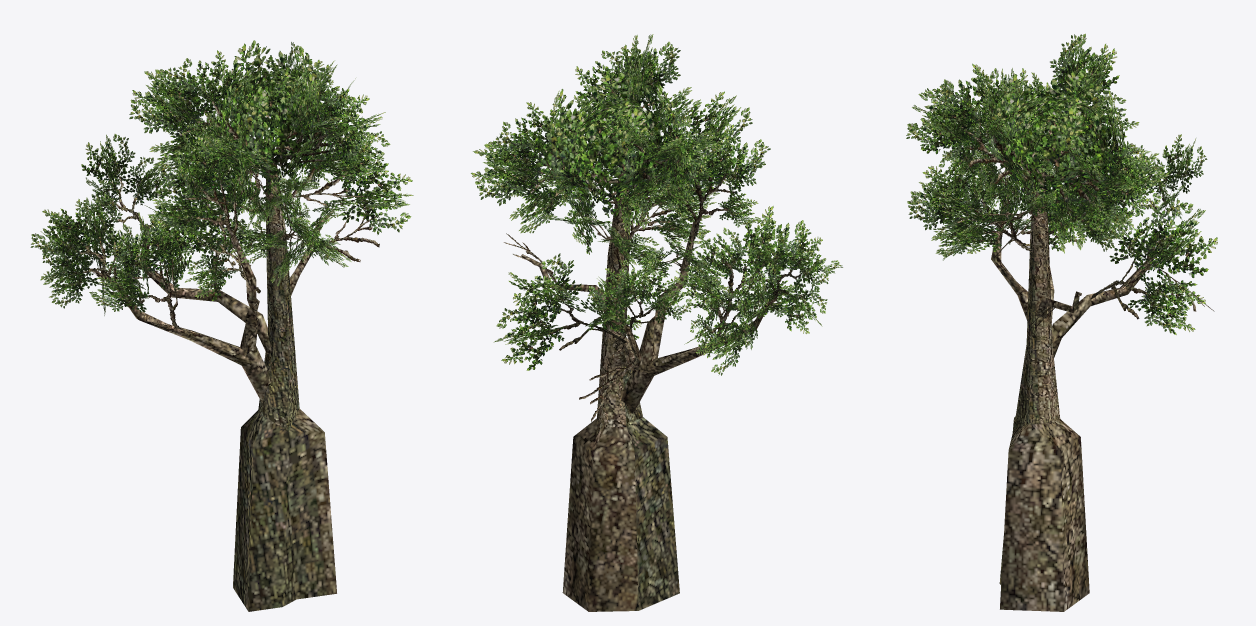
File: roble_b.glb
3 renders of one model, left to right at view 1: azimuth 30°, elevation 25°; view 2: azimuth 150°, elevation 25°; view 3: azimuth 270°, elevation 25°, orthographic. The views are drawn at different scales.
Visible parts, largest first — view 1: Copa, Tronco; view 2: Copa, Tronco; view 3: Copa, Tronco.
Boxes of the visible parts, x1,y1,x2,y2 form: Copa: (30,40,413,315); Tronco: (73,91,379,611); Copa: (471,34,842,375); Tronco: (503,89,800,611); Copa: (906,33,1217,334); Tronco: (955,95,1214,611).
Size of the model in its own units: 9.45 by 13.47 by 8.15.
2 materials, 2 textured.
